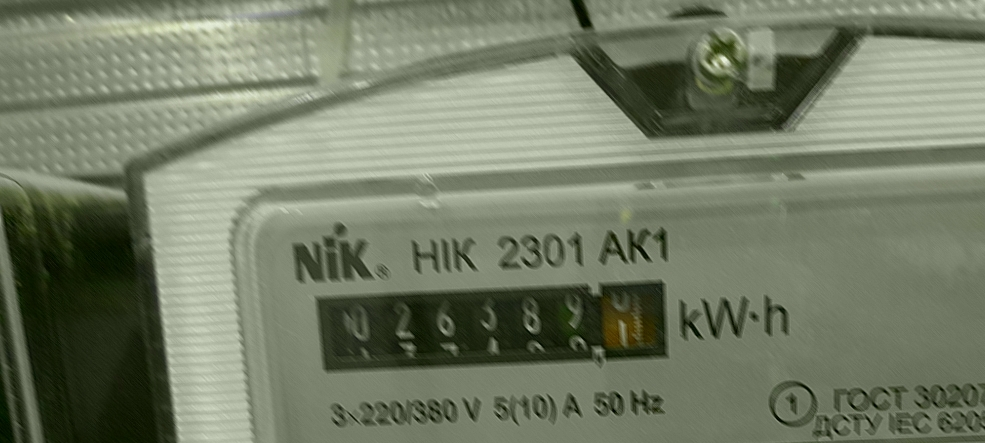0: (348, 301, 372, 341), (611, 289, 630, 311)
1: (617, 316, 630, 348)
2: (392, 299, 416, 338)
3: (479, 296, 497, 331)
6: (436, 297, 455, 336)
8: (521, 294, 543, 333)
9: (565, 292, 583, 327)
screen: (302, 268, 684, 382)
